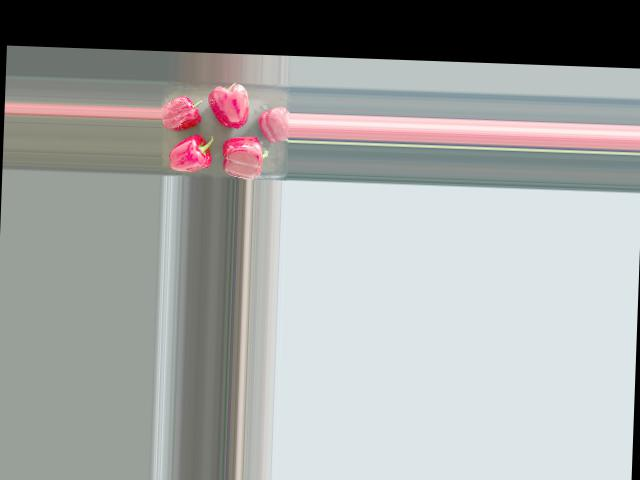bell_pepper: (256, 99, 289, 144)
